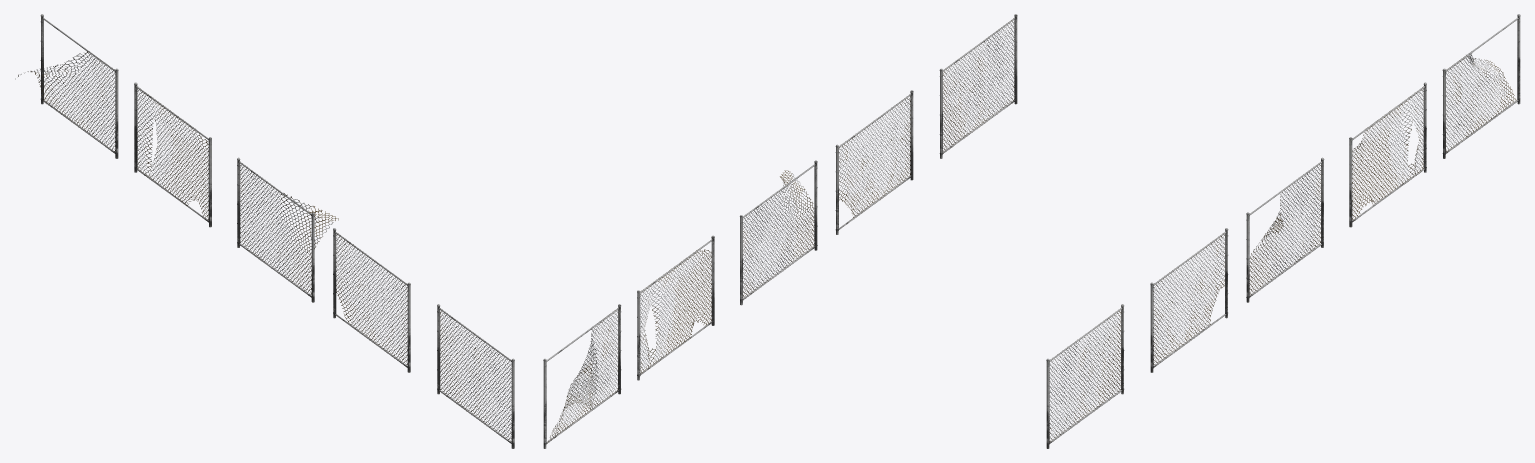
Rendered from damaged_chainlink_fence_segments.glb.
The picture shows the model from 3 angles, left to right: view 1: azimuth 30°, elevation 25°; view 2: azimuth 150°, elevation 25°; view 3: azimuth 330°, elevation 25°; orthographic projection.
Parts seen in each view (by area): view 1: Plane.003_Material.001_0, Plane.001_Material.001_0, Plane.002_Material.001_0, Plane.005_Material.001_0, Plane.006_Material.001_0, Cylinder.006_Material.001_0, Cylinder_Material.001_0, Cylinder.003_Material.001_0, Cylinder.012_Material.001_0, Cylinder.009_Material.001_0; view 2: Plane.001_Material.001_0, Plane.003_Material.001_0, Plane.002_Material.001_0, Plane.005_Material.001_0, Plane.006_Material.001_0, Cylinder.009_Material.001_0, Cylinder_Material.001_0, Cylinder.012_Material.001_0, Cylinder.006_Material.001_0, Cylinder.003_Material.001_0; view 3: Plane.001_Material.001_0, Plane.002_Material.001_0, Plane.005_Material.001_0, Plane.003_Material.001_0, Plane.006_Material.001_0, Cylinder.009_Material.001_0, Cylinder.003_Material.001_0, Cylinder_Material.001_0, Cylinder.012_Material.001_0, Cylinder.006_Material.001_0.
Boxes of the visible parts, bbox=[...] form: Plane.003_Material.001_0: bbox=[240, 161, 338, 295]; Plane.001_Material.001_0: bbox=[440, 308, 511, 441]; Plane.002_Material.001_0: bbox=[336, 233, 407, 364]; Plane.005_Material.001_0: bbox=[137, 88, 208, 219]; Plane.006_Material.001_0: bbox=[15, 51, 115, 151]; Cylinder.006_Material.001_0: bbox=[237, 157, 314, 302]; Cylinder_Material.001_0: bbox=[437, 304, 514, 448]; Cylinder.003_Material.001_0: bbox=[333, 228, 410, 372]; Cylinder.012_Material.001_0: bbox=[40, 14, 118, 158]; Cylinder.009_Material.001_0: bbox=[134, 82, 211, 227]; Plane.001_Material.001_0: bbox=[943, 18, 1014, 151]; Plane.003_Material.001_0: bbox=[743, 170, 814, 297]; Plane.002_Material.001_0: bbox=[839, 96, 910, 217]; Plane.005_Material.001_0: bbox=[640, 249, 711, 373]; Plane.006_Material.001_0: bbox=[548, 308, 618, 441]; Cylinder.009_Material.001_0: bbox=[637, 235, 714, 380]; Cylinder_Material.001_0: bbox=[939, 14, 1017, 158]; Cylinder.012_Material.001_0: bbox=[543, 304, 621, 448]; Cylinder.006_Material.001_0: bbox=[739, 160, 817, 305]; Cylinder.003_Material.001_0: bbox=[835, 90, 913, 234]; Plane.001_Material.001_0: bbox=[1049, 311, 1121, 441]; Plane.002_Material.001_0: bbox=[1153, 234, 1225, 364]; Plane.005_Material.001_0: bbox=[1352, 86, 1423, 219]; Plane.003_Material.001_0: bbox=[1249, 164, 1321, 294]; Plane.006_Material.001_0: bbox=[1446, 53, 1516, 151]; Cylinder.009_Material.001_0: bbox=[1349, 82, 1426, 227]; Cylinder.003_Material.001_0: bbox=[1150, 228, 1228, 372]; Cylinder_Material.001_0: bbox=[1046, 304, 1124, 448]; Cylinder.012_Material.001_0: bbox=[1442, 14, 1520, 158]; Cylinder.006_Material.001_0: bbox=[1246, 157, 1324, 302].
Size of the model in its own units: 1.48 by 1.9 by 18.19.
1 material, 1 textured.
